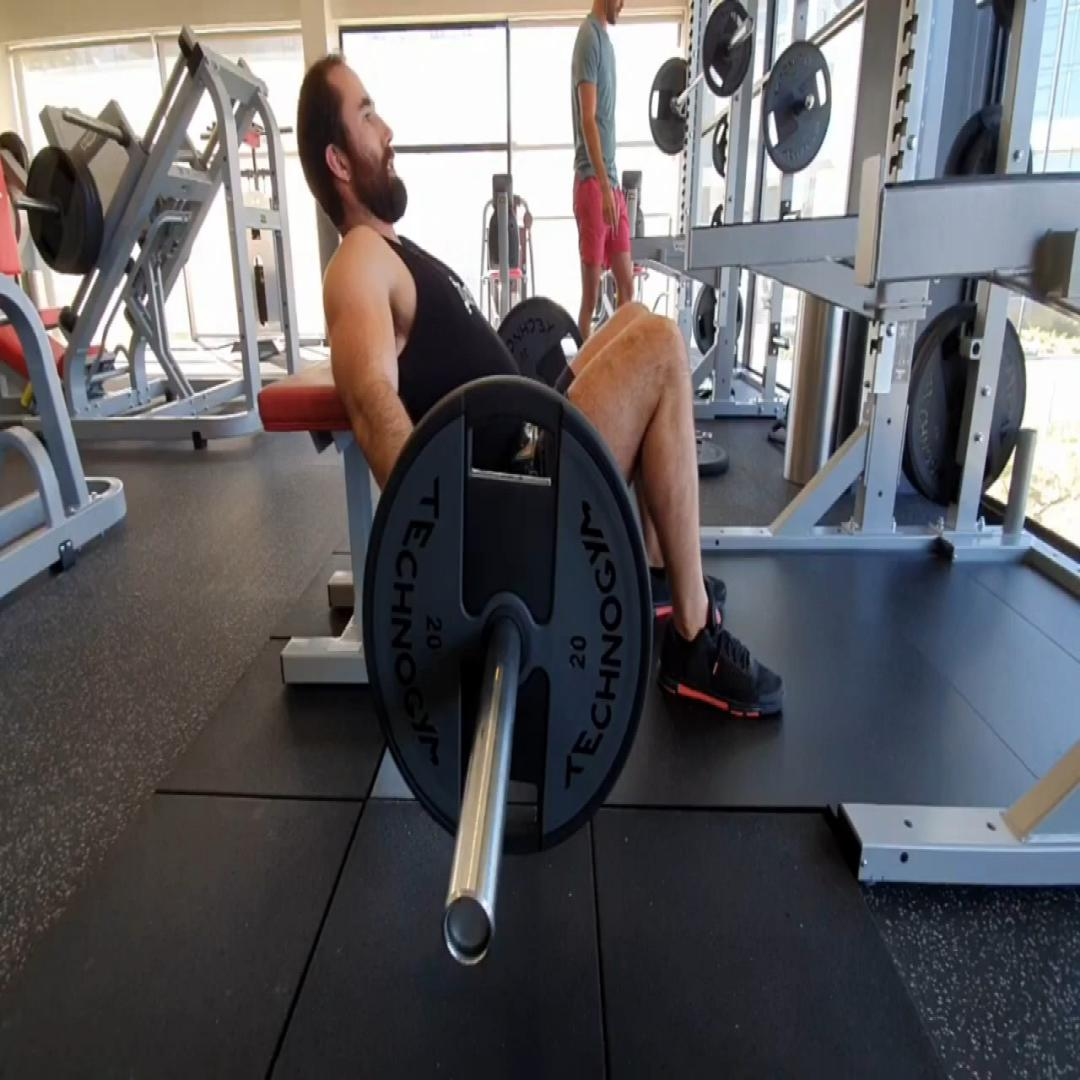Bar: (442, 890, 495, 966)
Barbell: (362, 373, 651, 855)
